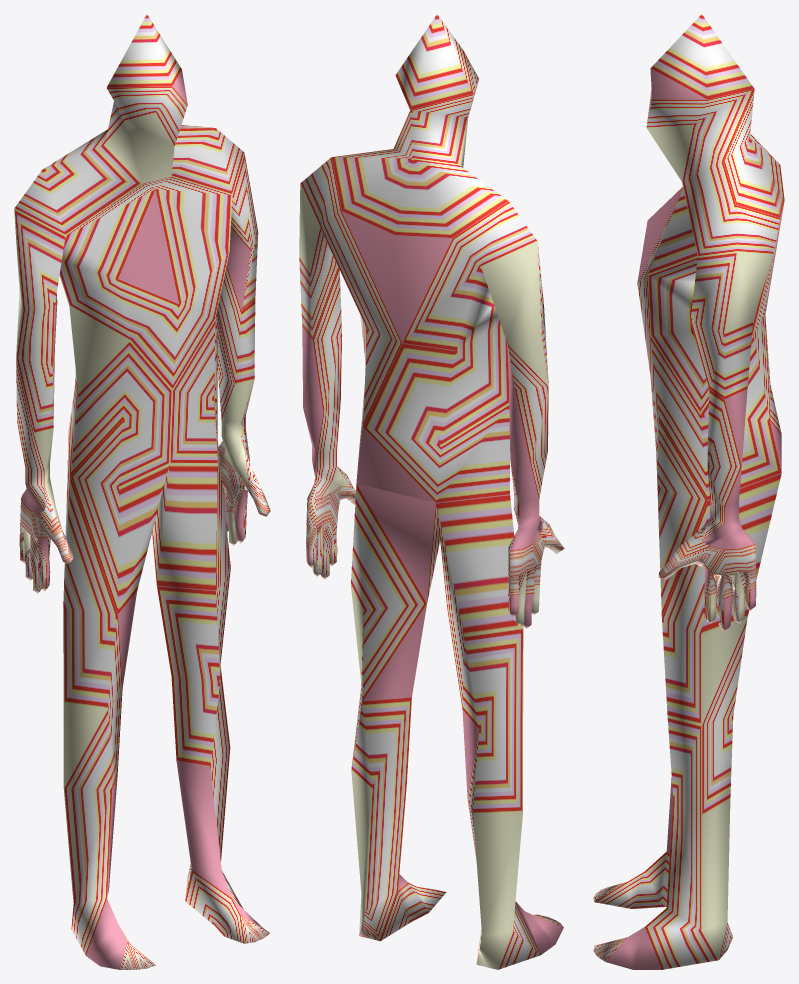
The model's file is JoeKickAttention.obj.
3 renders of one model, left to right at view 1: azimuth 30°, elevation 25°; view 2: azimuth 150°, elevation 25°; view 3: azimuth 270°, elevation 25°, orthographic. The views are drawn at different scales.
Parts seen in each view (by area): view 1: Joe_Shape_IndexedFaceSet; view 2: Joe_Shape_IndexedFaceSet; view 3: Joe_Shape_IndexedFaceSet.
Part boxes in pixels (<box>): Joe_Shape_IndexedFaceSet: <box>14,14,270,969</box>; Joe_Shape_IndexedFaceSet: <box>299,14,564,969</box>; Joe_Shape_IndexedFaceSet: <box>593,14,784,969</box>.
Size of the model in its own units: 0.494 by 1.77 by 0.335.
Materials: 1 (1 with a texture image).
